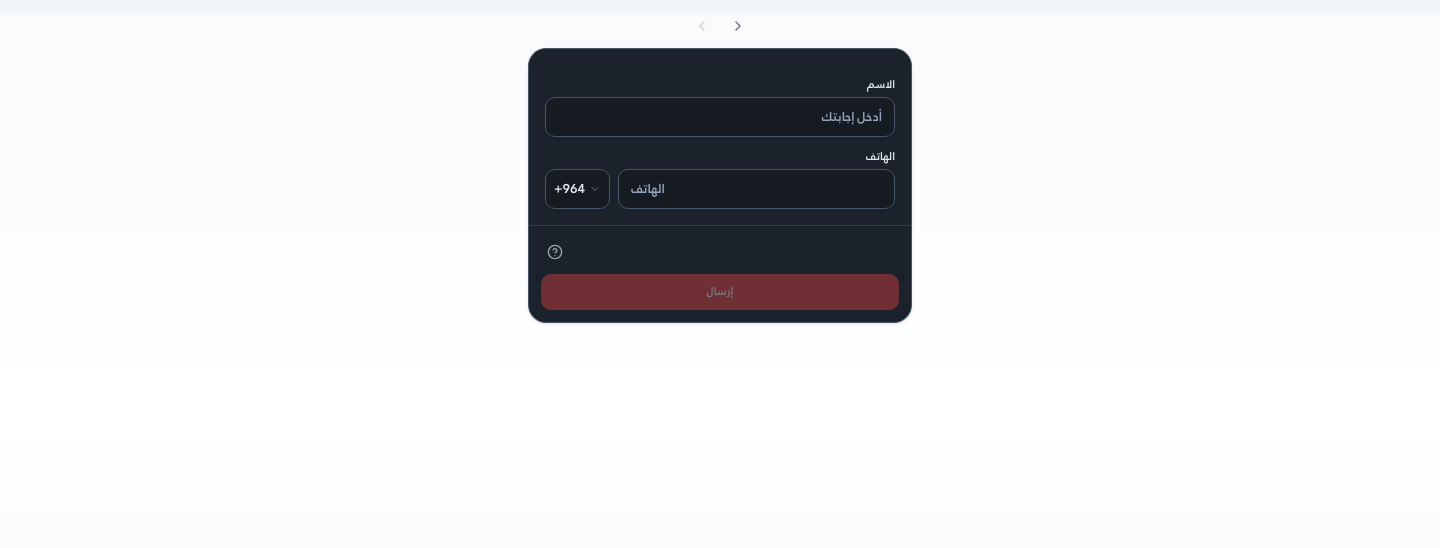
Scenario: automatic form privacy › keeps ar policy links accessible from the footer popup even with the checkbox hidden
Step 1. Click the button named "حول الخصوصية" → [555, 252], box left=541, top=238, right=569, bottom=266
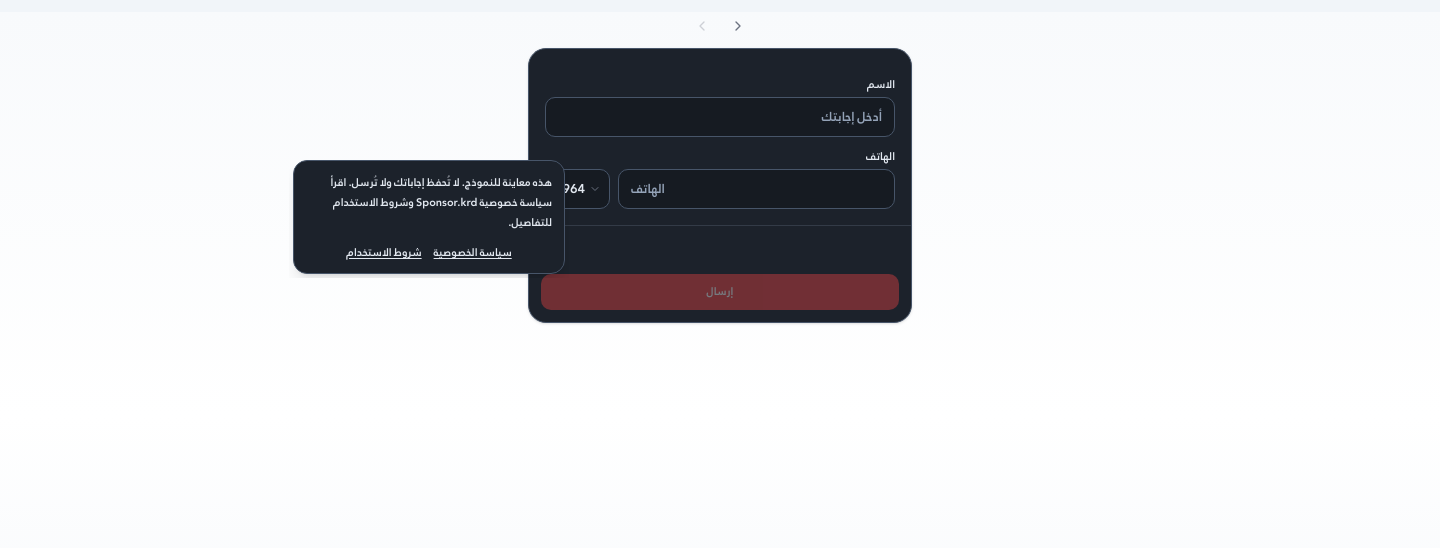
Check: the element named "سياسة الخصوصية" is shown, box left=293, top=160, right=565, bottom=274
